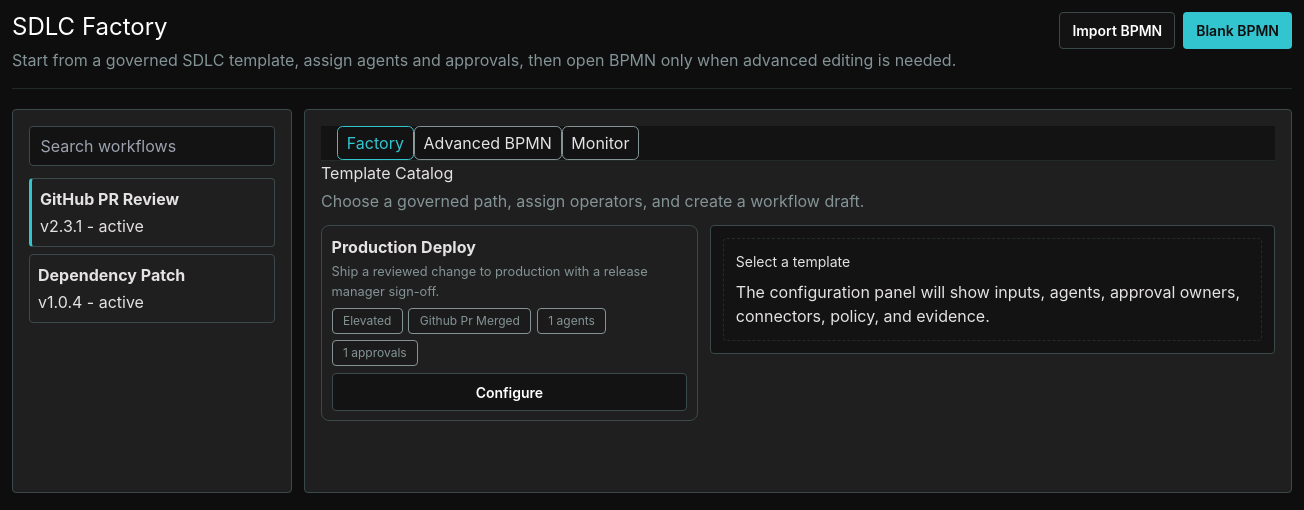
it: WorkflowDesigner integration › switches to Monitor tab and shows run list for the selected workflow
Expected: the heading "SDLC Factory" is shown, [12,12,168,41]
Step 1. Click the tab "Monitor" → (600, 143), box [562,126,639,160]
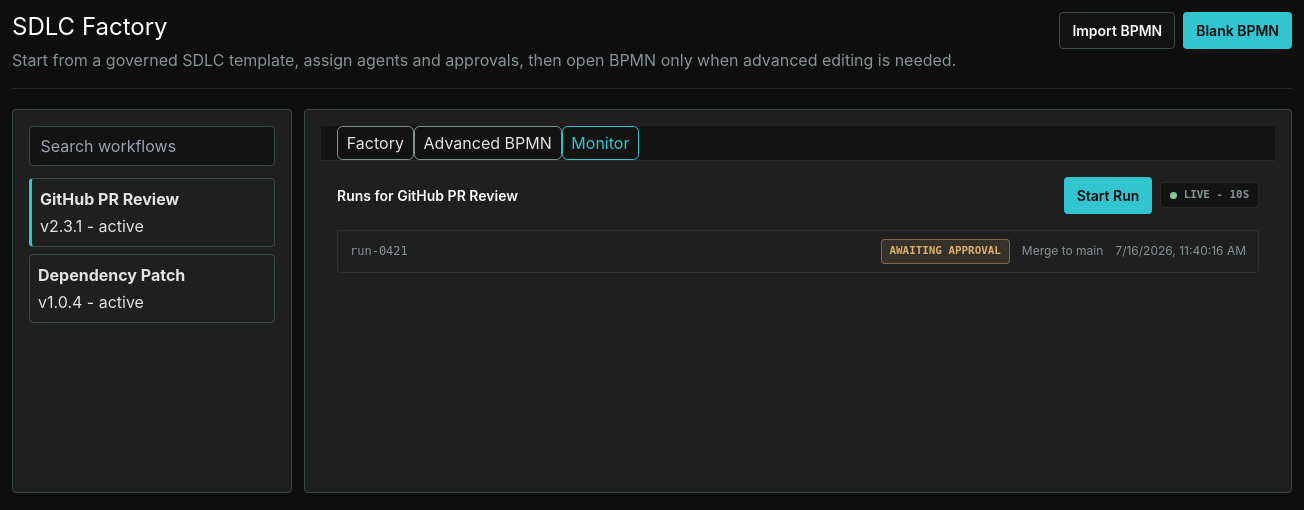
Expected: the text "run-0421" is shown, [350,244,408,258]
